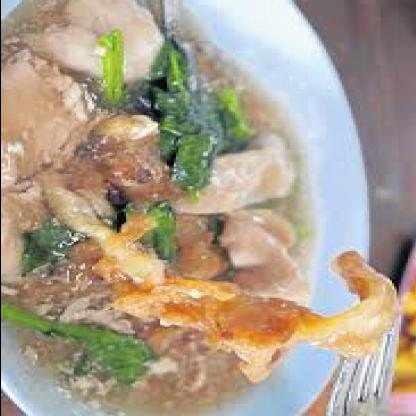Laadna: (1, 1, 375, 413)
